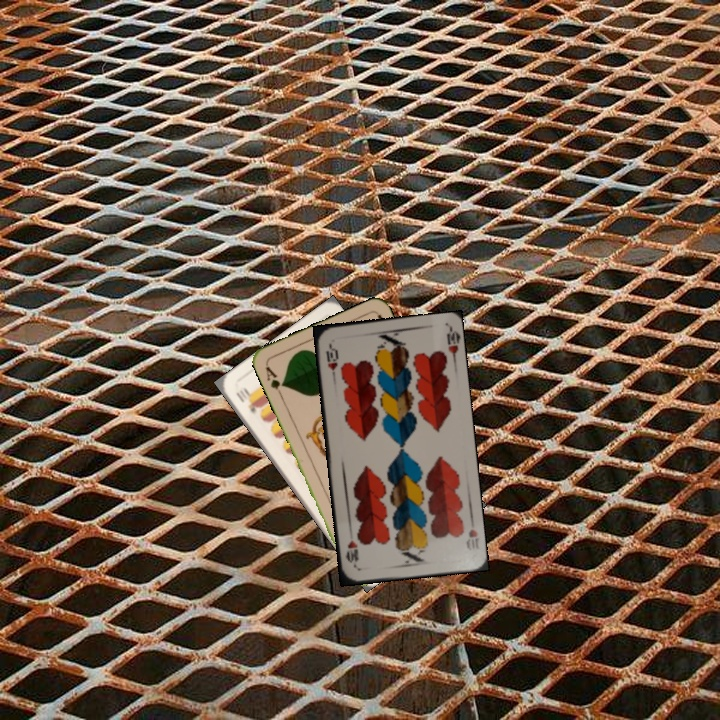E10: (232, 385, 260, 416)
GA: (261, 362, 288, 399)
H10: (462, 514, 481, 553), (322, 340, 340, 380)
